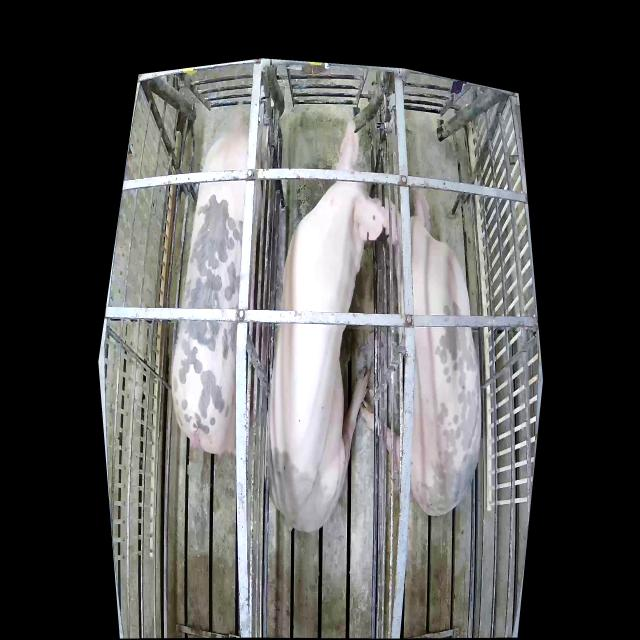pig: (266, 120, 388, 529), (360, 190, 483, 517), (172, 101, 263, 461)
